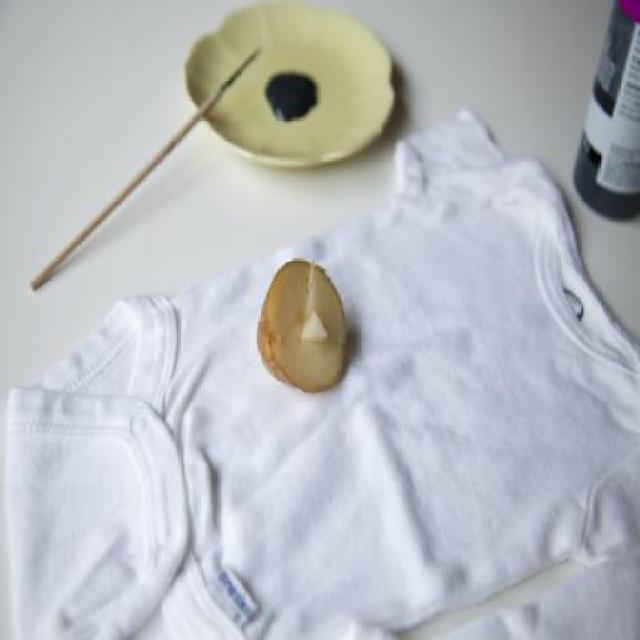Potato: (256, 258, 352, 392)
